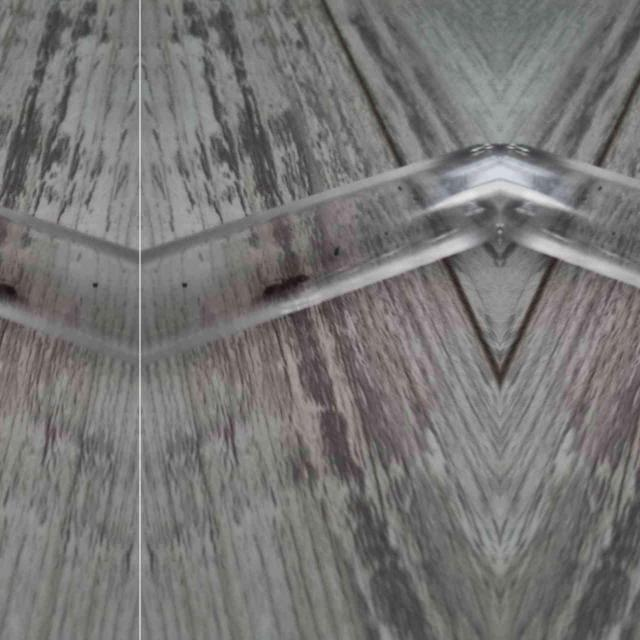Lasius: (267, 268, 319, 296), (0, 266, 12, 295)
